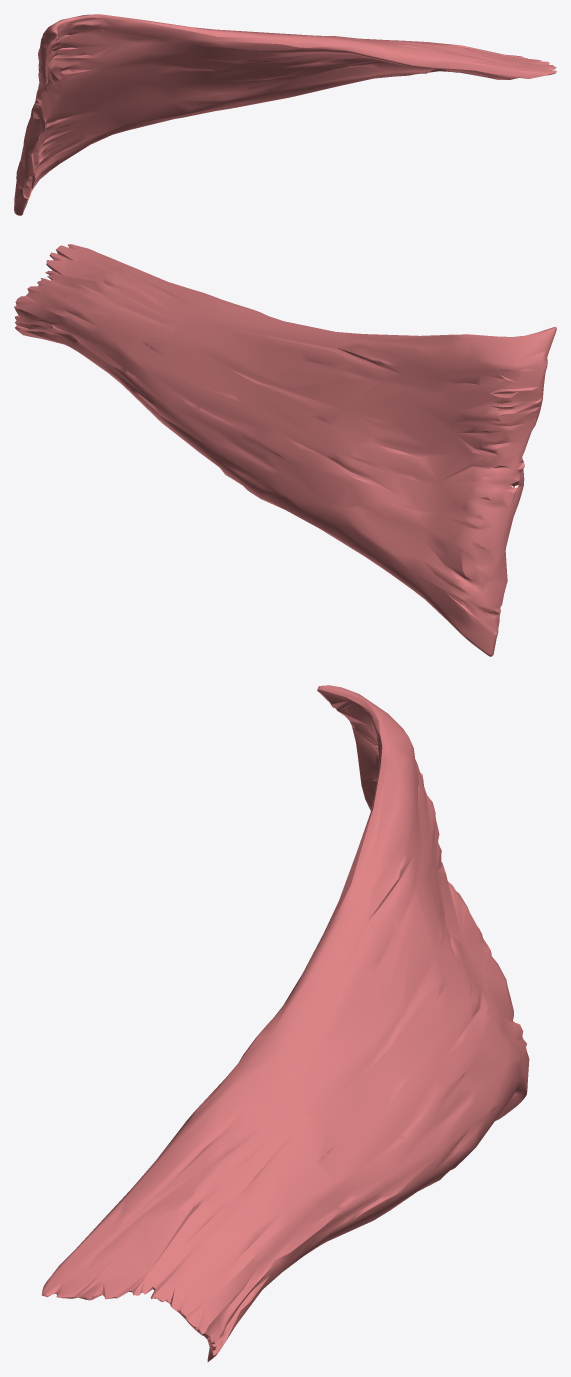
The picture shows the model from 3 angles, top to bottom: view 1: azimuth 30°, elevation 25°; view 2: azimuth 150°, elevation 25°; view 3: azimuth 270°, elevation 25°; orthographic projection. The views are drawn at different scales.
Parts seen in each view (by area): view 1: FJ1554M; view 2: FJ1554M; view 3: FJ1554M.
Boxes of the visible parts, x1,y1,x2,y2 form: FJ1554M: (14,14,556,215); FJ1554M: (14,244,556,656); FJ1554M: (41,685,529,1361).
Size of the model in its own units: 0.1662 by 0.0781 by 0.0799.
